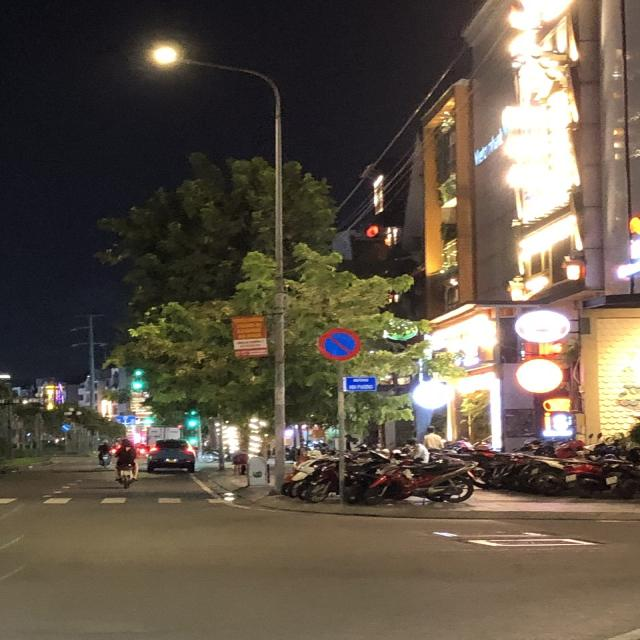Bien bao cam do xe: (316, 324, 362, 363)
